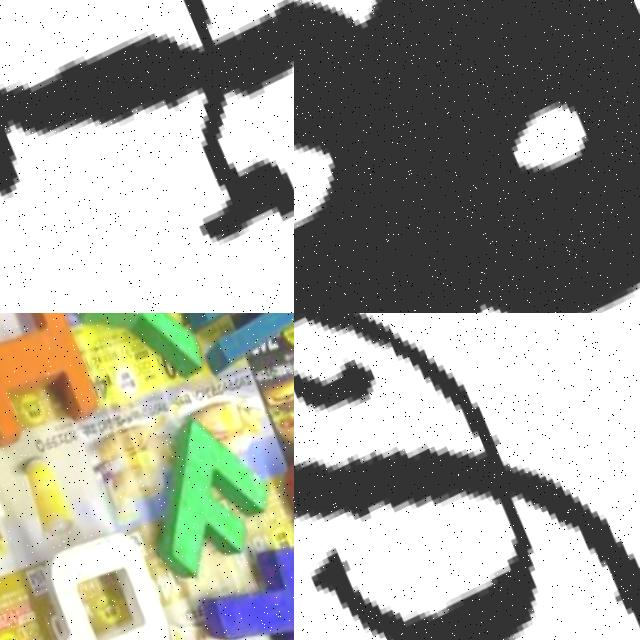8: (294, 0, 640, 313)
F: (0, 0, 294, 313), (127, 415, 288, 599)
I: (0, 313, 105, 467)
M: (168, 313, 294, 381)
Q: (24, 524, 179, 640)
T: (189, 541, 294, 640)
Y: (62, 313, 218, 428)
